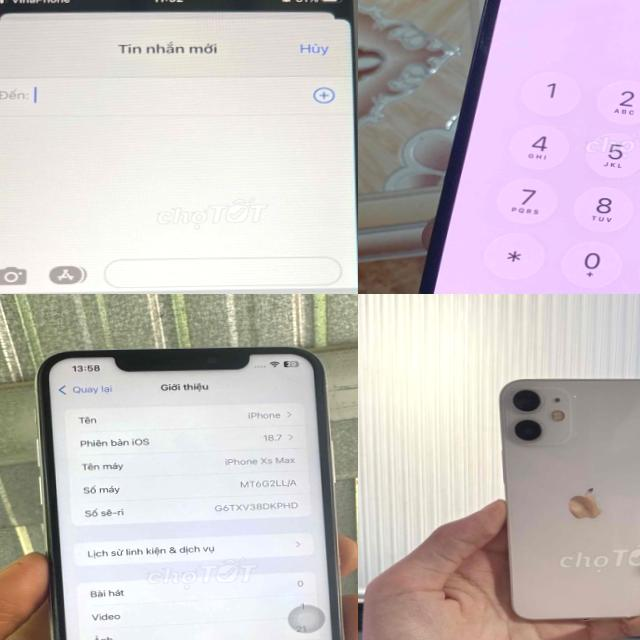gen_12_13: (392, 0, 640, 294), (489, 366, 640, 628)
gen_7_8: (0, 0, 358, 294)
gen_x_xs: (30, 340, 358, 640)
